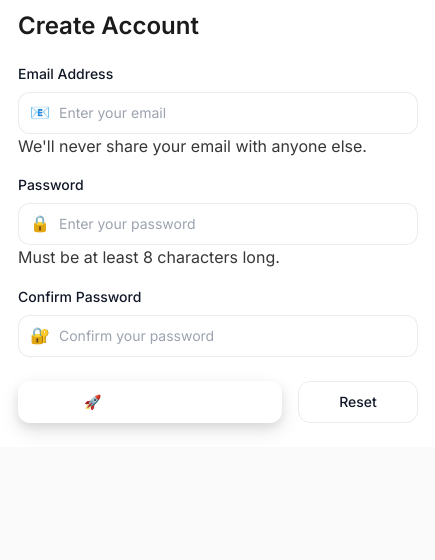
Test: Form Integration › Error Handling and Edge Cases › handles network errors gracefully
Type "test@example.com" into the field labelled "Email Address" at (218, 113), box [18,92,418,134]
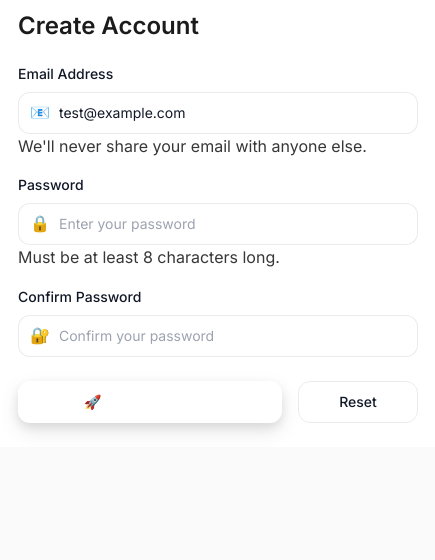
Type "password123" into the password field labelled "Password" at (218, 224), box [18,203,418,245]
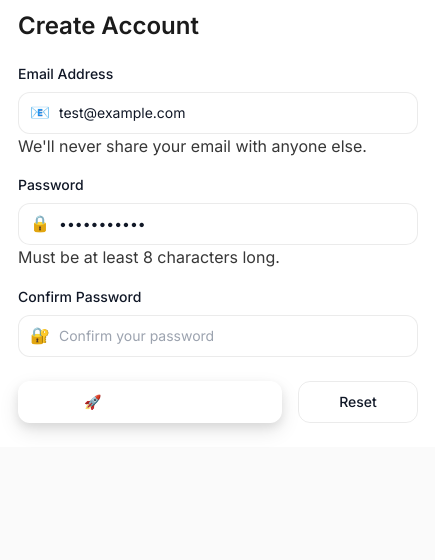
Type "password123" into the password field labelled "Confirm Password" at (218, 336), box [18,315,418,357]
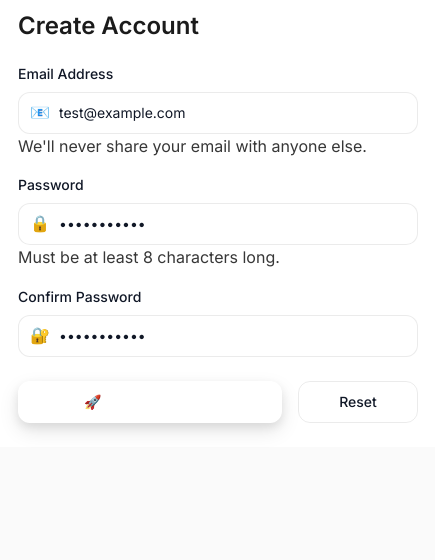
Click the button "🚀 Create Account" at (150, 402), box [18,381,282,423]
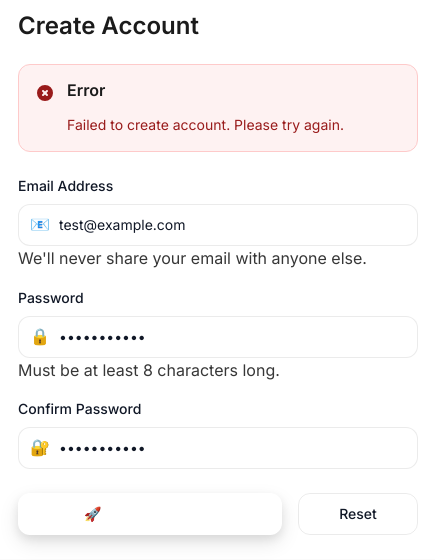
Result: the heading "Error" is shown at [67,80,105,100]
Result: the text "Failed to create account. Please try again." is shown at [67,116,344,133]
